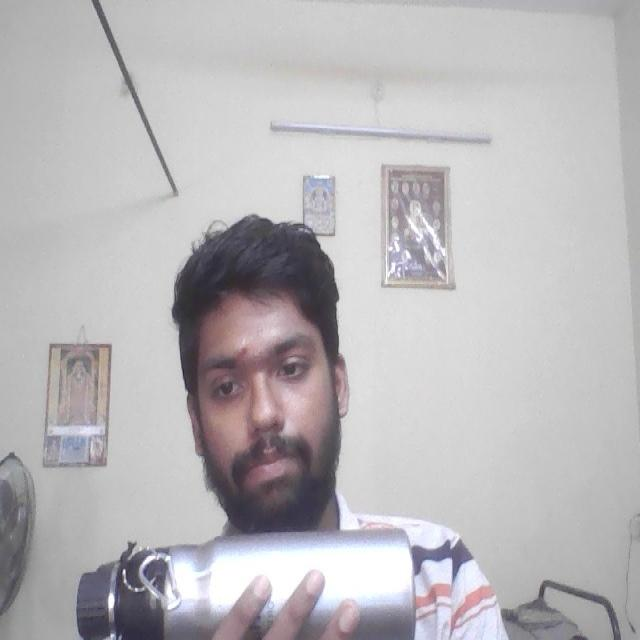Drinking: (72, 521, 419, 640)
